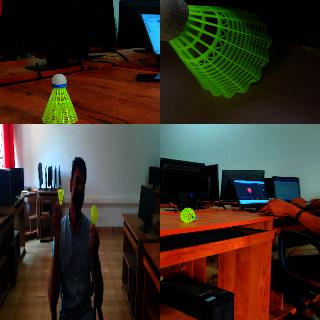shuttlecock: (160, 0, 272, 99), (40, 73, 79, 123), (180, 207, 198, 223), (57, 189, 64, 211), (91, 204, 98, 224)
